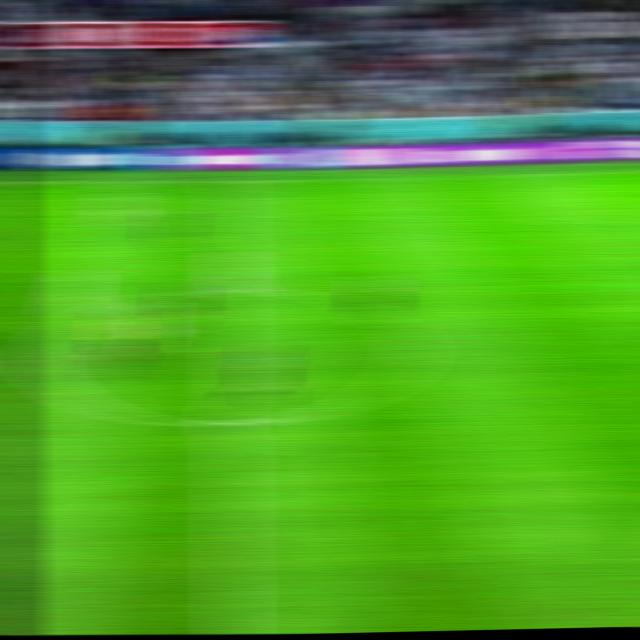halfcircle_bottom: (207, 407, 253, 437)
halfcircle_top: (209, 281, 254, 299)
midline_top_intersection: (210, 170, 248, 192)
